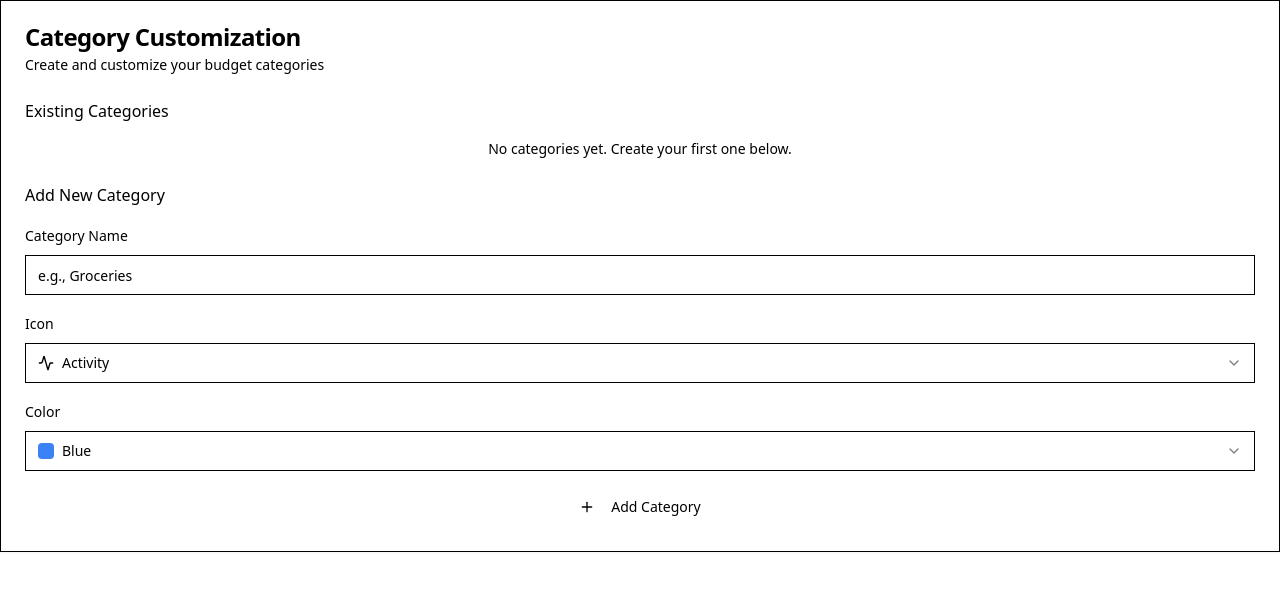
it: CategoryCustomization › validates form inputs correctly
// Try to submit empty form
Click the button "Add Category" at (640, 507), box x1=25 y1=487 x2=1255 y2=527
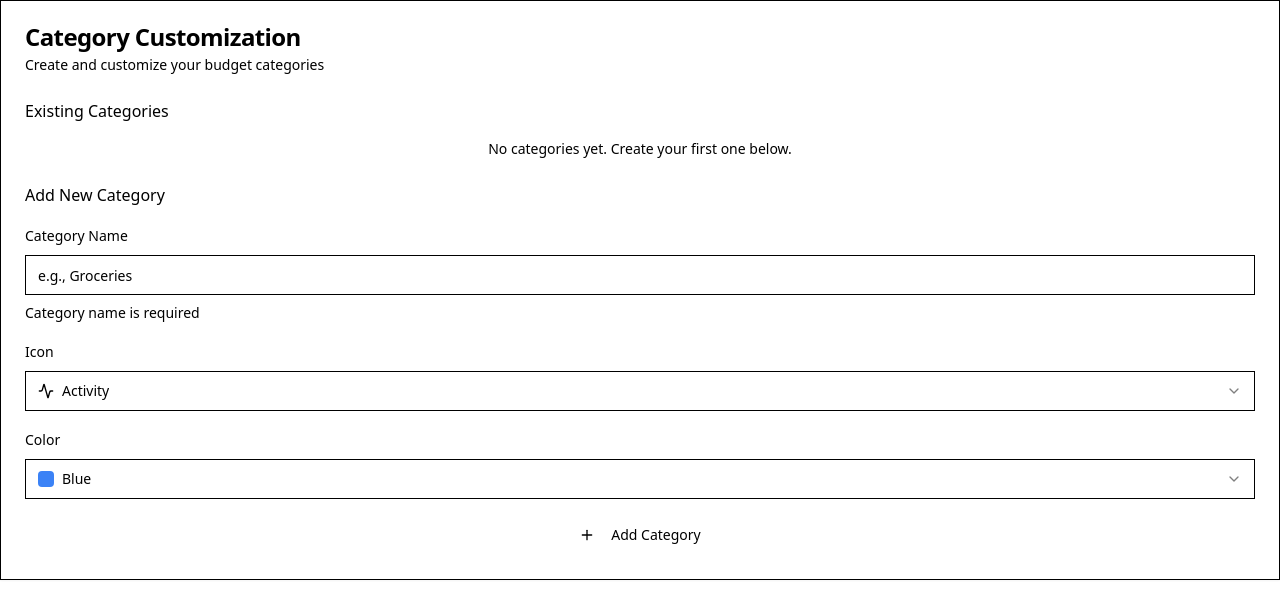
Expected: the text "Category name is required" is shown, x1=25 y1=303 x2=200 y2=322
